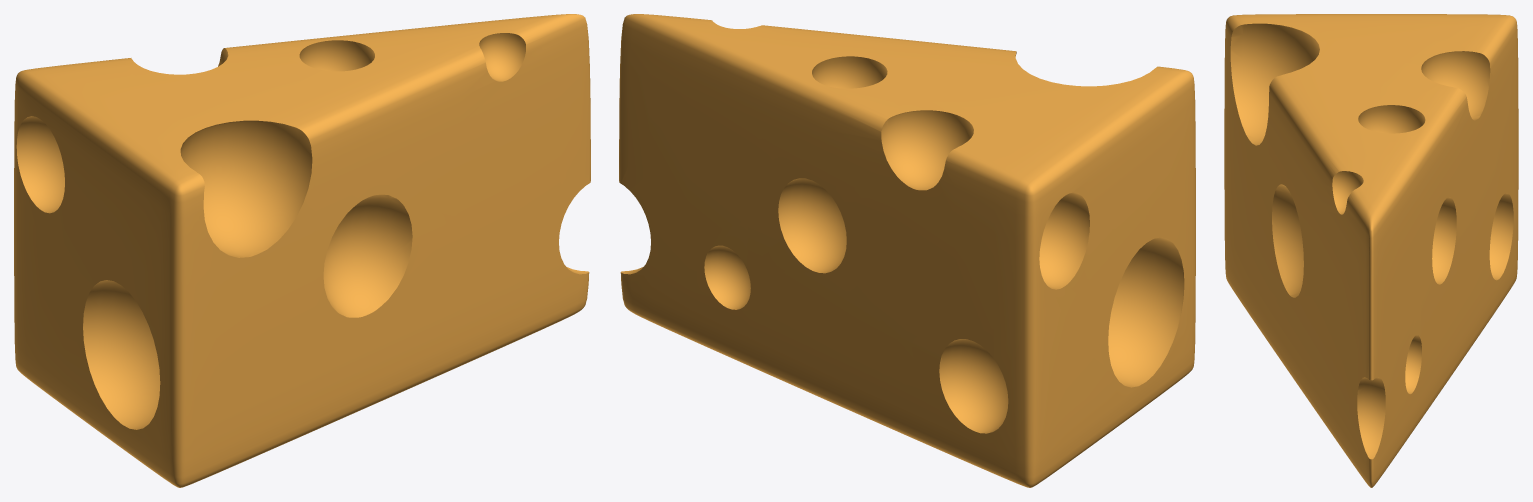
The model's file is keju.glb.
3 renders of one model, left to right at view 1: azimuth 30°, elevation 25°; view 2: azimuth 150°, elevation 25°; view 3: azimuth 270°, elevation 25°, orthographic. The views are drawn at different scales.
Parts seen in each view (by area): view 1: Cube; view 2: Cube; view 3: Cube.
Boxes of the visible parts, x1,y1,x2,y2 form: Cube: (14, 14, 590, 487); Cube: (619, 14, 1195, 487); Cube: (1224, 14, 1518, 487).
Size of the model in its own units: 3.35 by 2 by 1.93.
